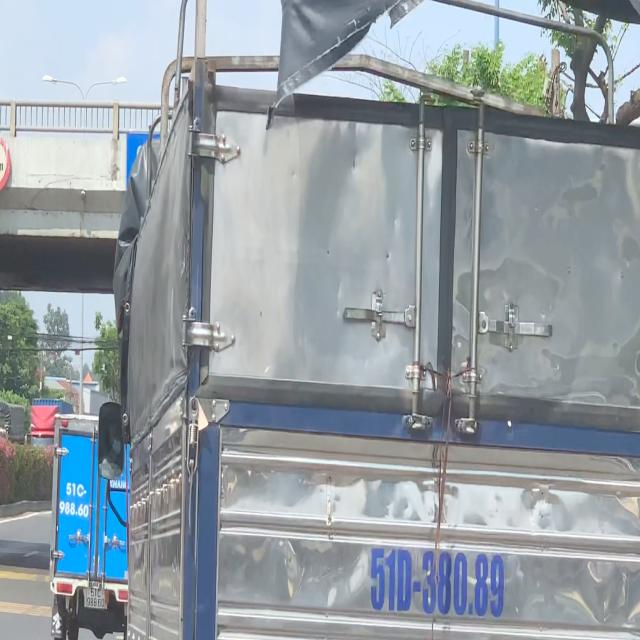Chieu cao toi da: (0, 132, 11, 192)
